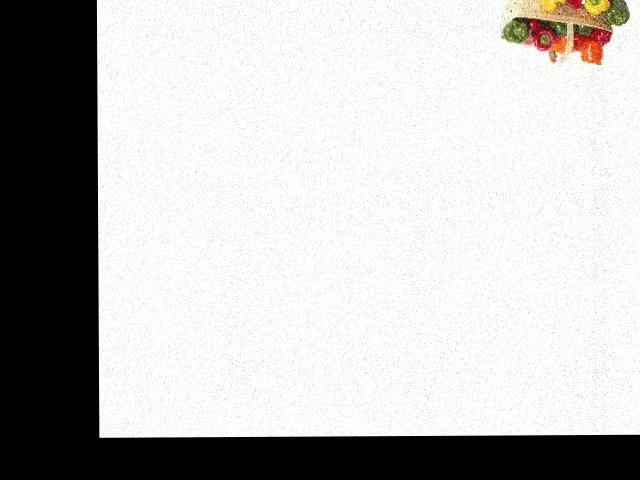bell_pepper: (503, 20, 531, 44)
